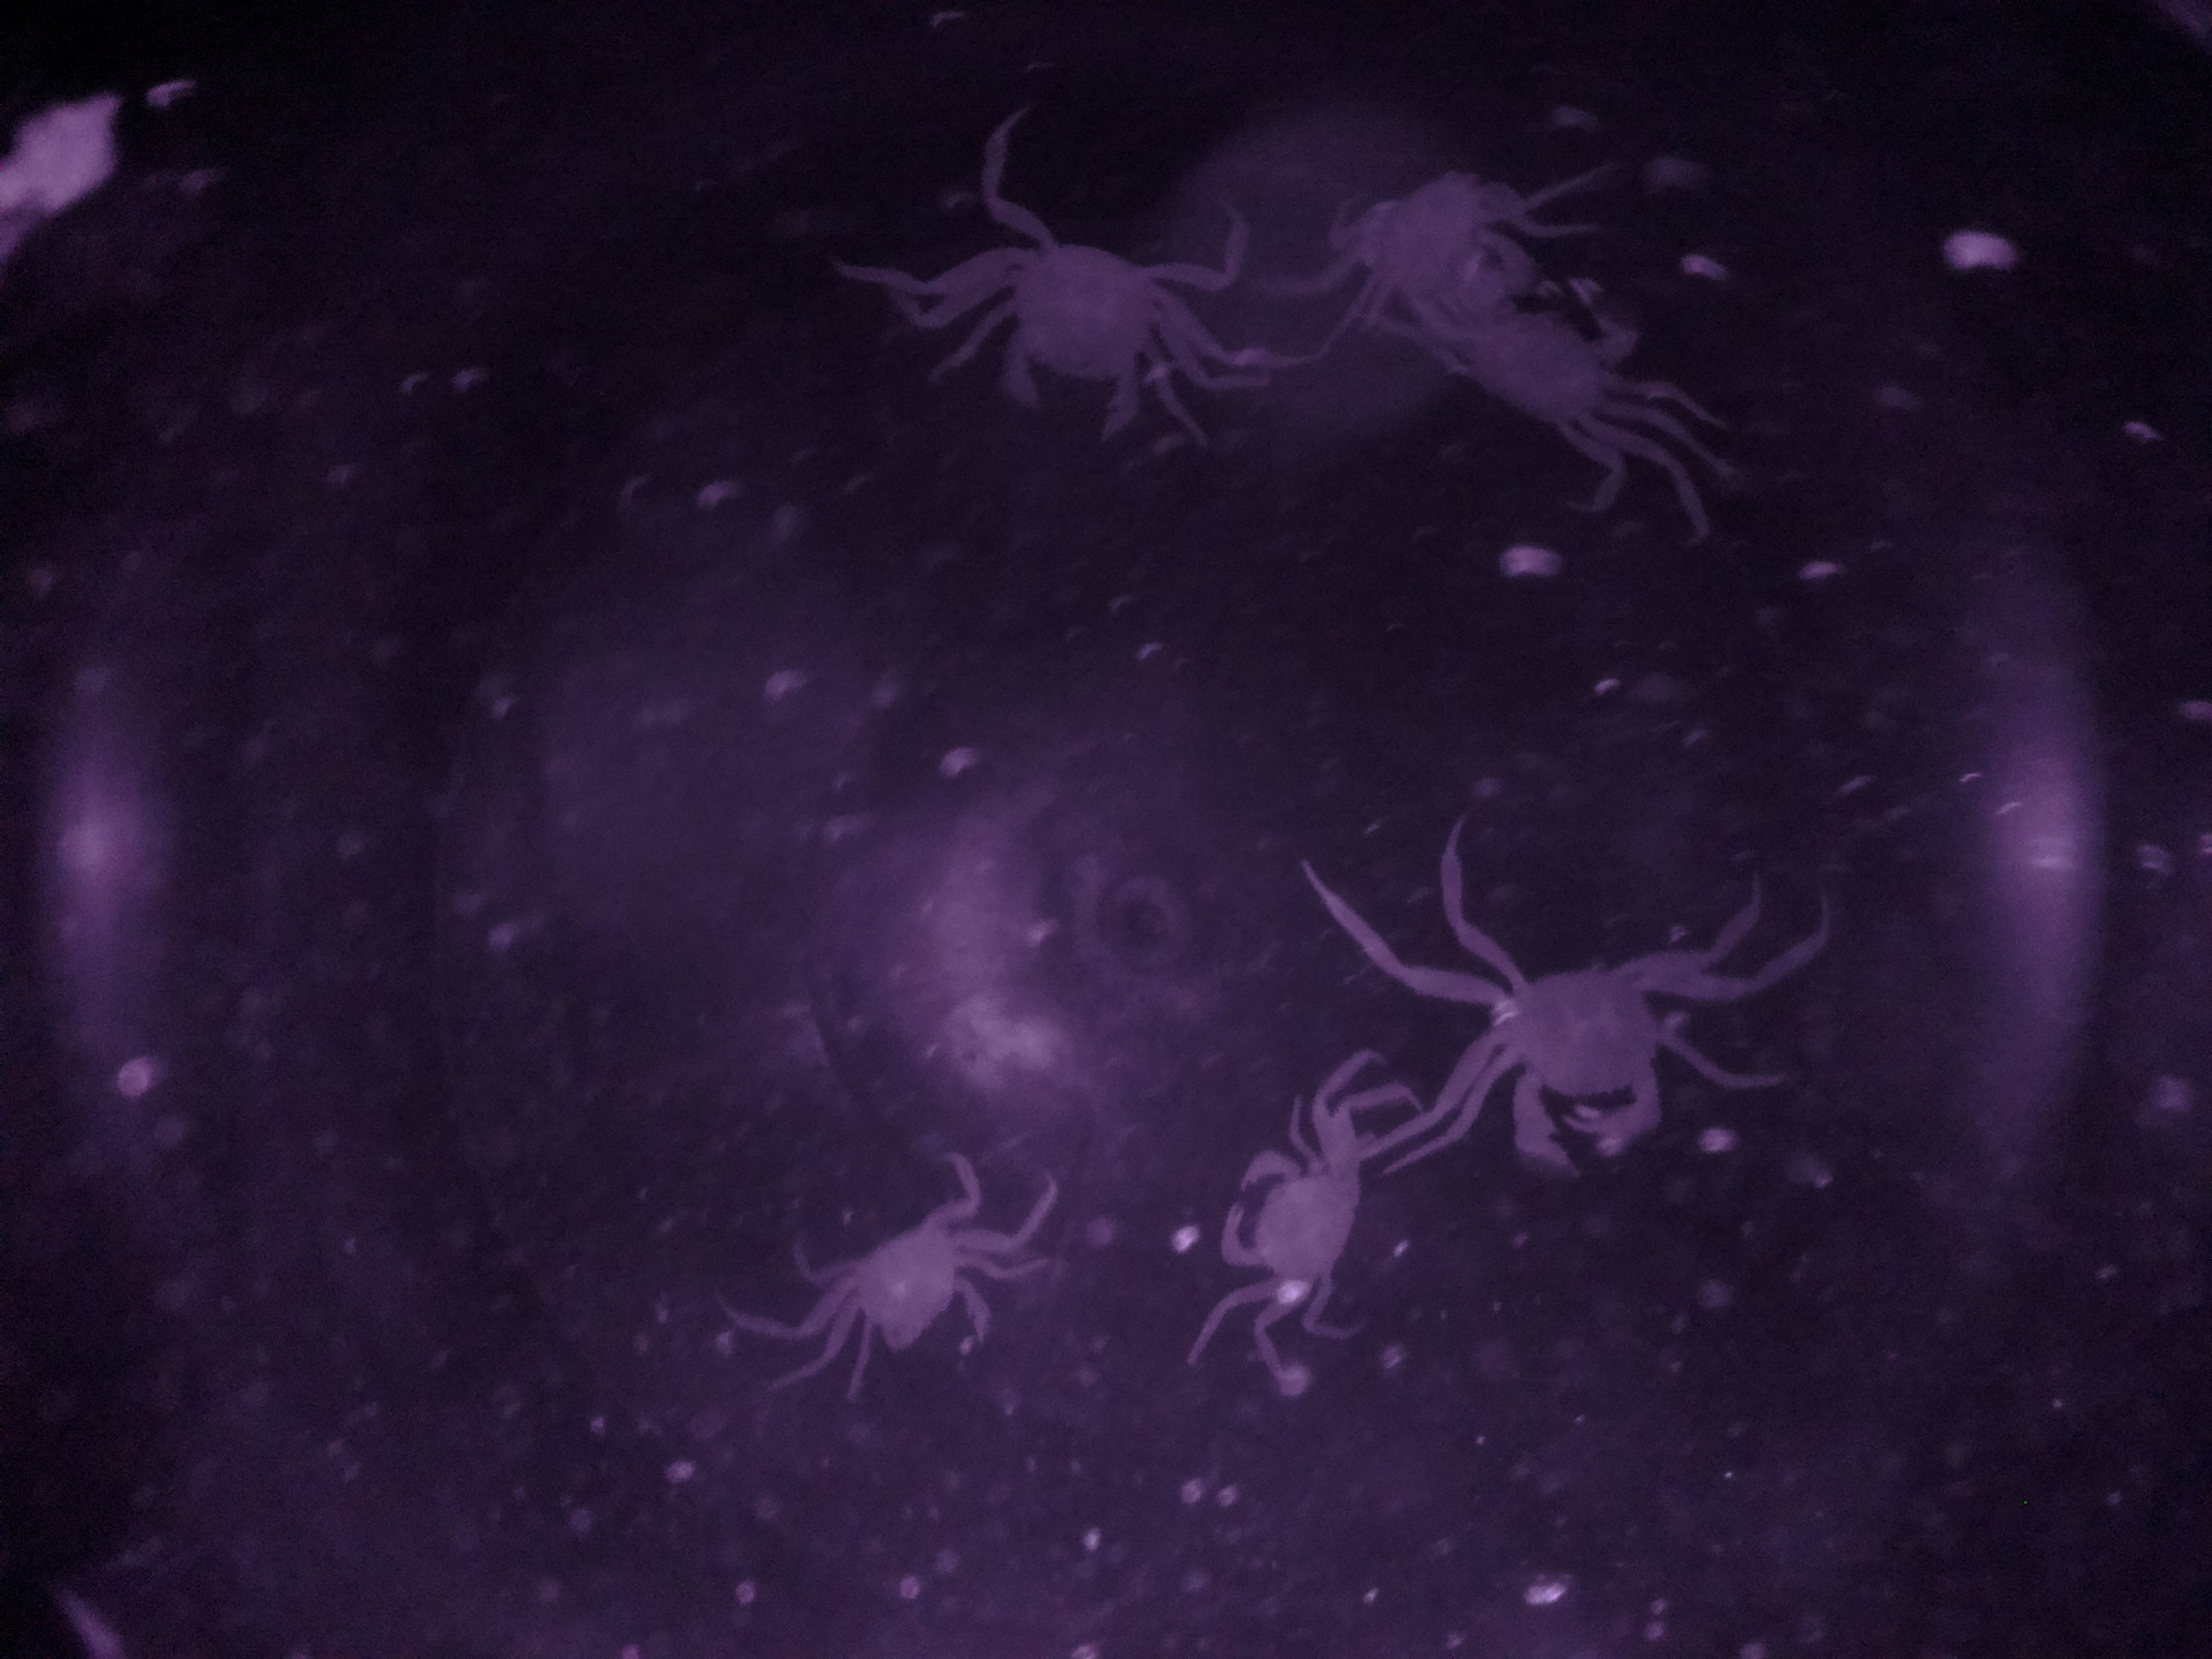Crab: (1414, 913, 1747, 1183), (968, 199, 1204, 486), (775, 1171, 1038, 1389), (1202, 1101, 1390, 1345)
